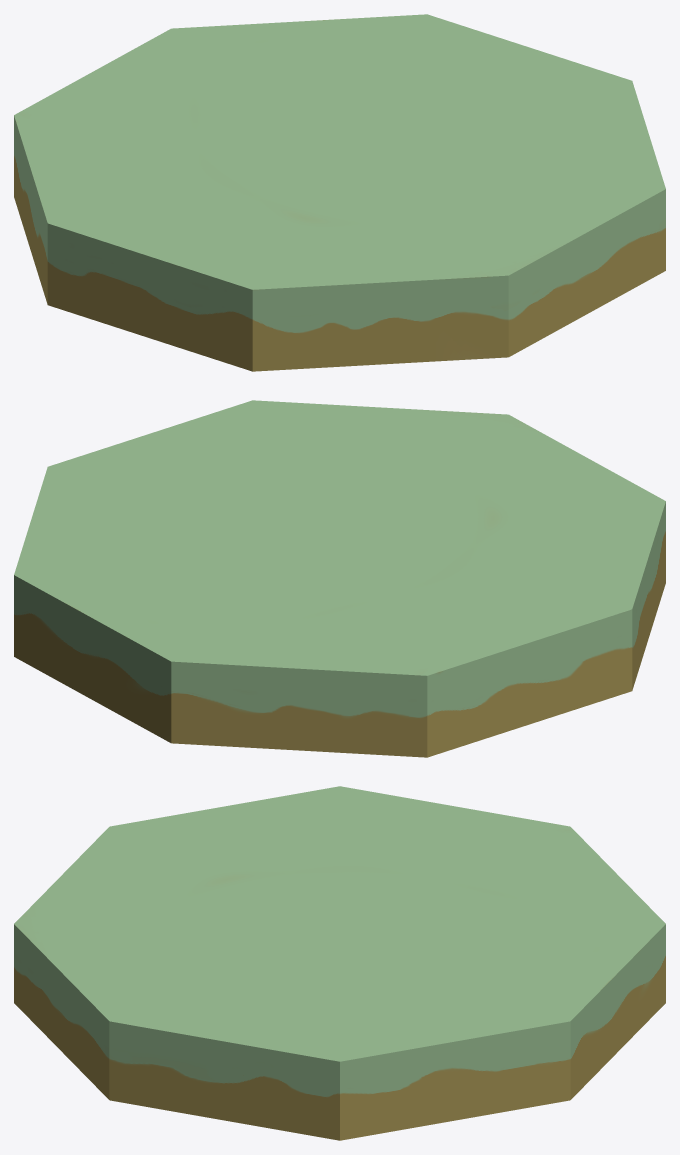
The model's file is Field.fbx.
3 renders of one model, top to bottom at view 1: azimuth 30°, elevation 25°; view 2: azimuth 150°, elevation 25°; view 3: azimuth 270°, elevation 25°, orthographic. The views are drawn at different scales.
Parts seen in each view (by area): view 1: Cylinder; view 2: Cylinder; view 3: Cylinder.
Boxes of the visible parts, left/top/right/bottom form: Cylinder: left=14, top=14, right=665, bottom=371; Cylinder: left=14, top=400, right=665, bottom=757; Cylinder: left=14, top=786, right=665, bottom=1140.
Bounding box in the file's own units: 748 × 100 × 748.
Materials: 1 (1 with a texture image).
